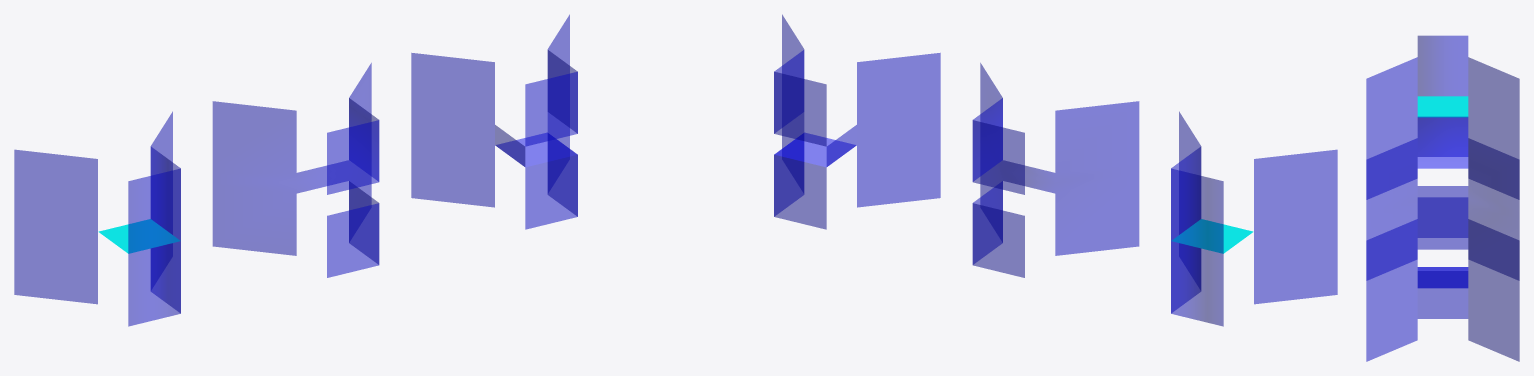
File: 4compression.glb
3 views of the same model, side by side, from view 1: azimuth 30°, elevation 25°; view 2: azimuth 150°, elevation 25°; view 3: azimuth 270°, elevation 25° (orthographic). The views are drawn at different scales.
Visible parts, largest first — view 1: surface.002, surface.001, surface, compdisk; view 2: surface.002, surface.001, surface, compdisk; view 3: surface.002, surface.001, surface, compdisk.
Boxes of the visible parts, bbox=[...] form: surface.002: bbox=[411, 14, 577, 229]; surface.001: bbox=[212, 63, 379, 277]; surface: bbox=[14, 111, 180, 326]; compdisk: bbox=[98, 219, 180, 253]; surface.002: bbox=[774, 14, 940, 229]; surface.001: bbox=[972, 63, 1139, 277]; surface: bbox=[1171, 111, 1337, 326]; compdisk: bbox=[1171, 219, 1253, 253]; surface.002: bbox=[1366, 197, 1519, 361]; surface.001: bbox=[1366, 116, 1519, 280]; surface: bbox=[1366, 35, 1519, 199]; compdisk: bbox=[1417, 96, 1468, 117].
Size of the model in its own units: 14 by 3.5 by 4.
